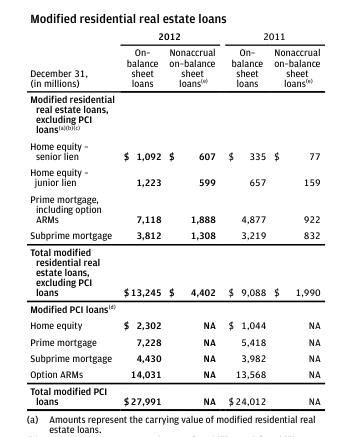table: (29, 29, 319, 406)
table column: (29, 29, 116, 406), (164, 29, 221, 406), (269, 29, 319, 406), (116, 29, 164, 406), (221, 29, 269, 406)
table column header: (29, 29, 319, 90)
table projected row header: (29, 90, 319, 136), (29, 299, 319, 316)
table row: (29, 243, 319, 299), (29, 43, 319, 90), (29, 90, 319, 136), (29, 190, 319, 226), (29, 136, 319, 163), (29, 163, 319, 190), (29, 381, 319, 406), (29, 226, 319, 243), (29, 299, 319, 316), (29, 332, 319, 349), (29, 316, 319, 332), (29, 349, 319, 365), (29, 365, 319, 381), (29, 29, 319, 43)
table spanning cell: (29, 29, 116, 90), (116, 29, 221, 43), (221, 29, 319, 43)
